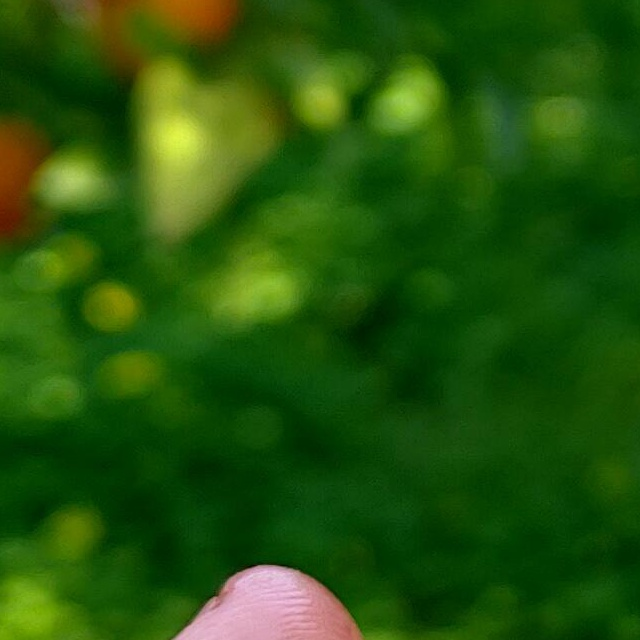orange: (46, 0, 204, 2)
